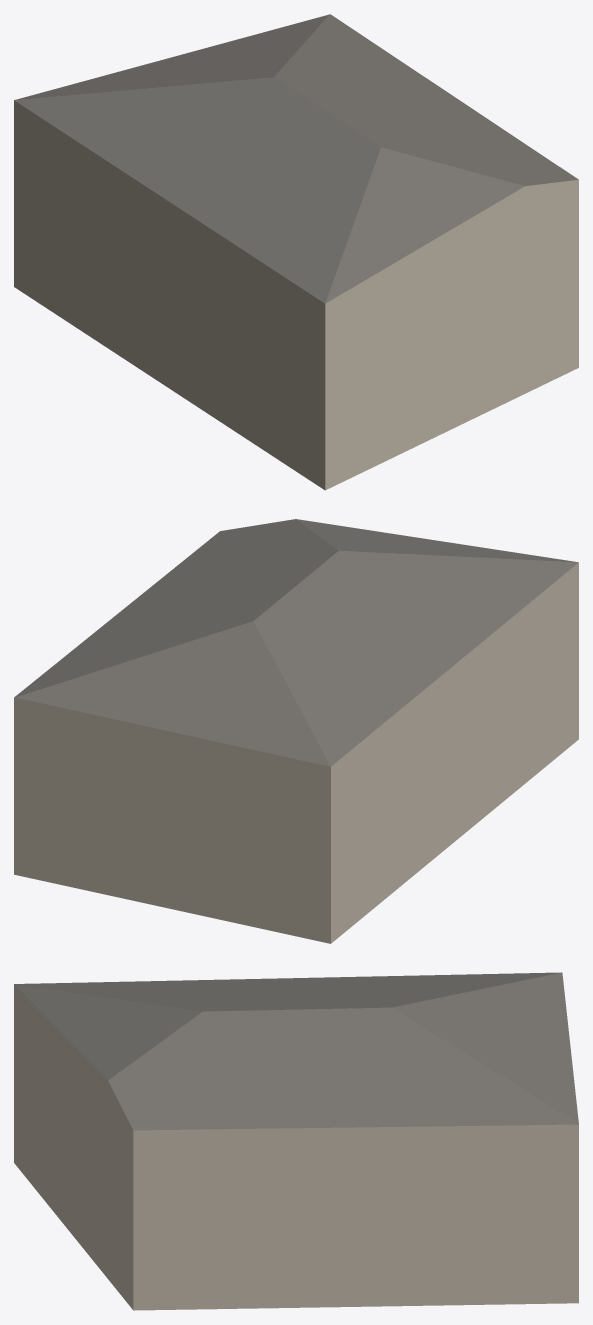
3 views of the same model, one above another, from view 1: azimuth 30°, elevation 25°; view 2: azimuth 150°, elevation 25°; view 3: azimuth 270°, elevation 25° (orthographic). The views are drawn at different scales.
Visible parts, largest first — view 1: HP-w428202604; view 2: HP-w428202604; view 3: HP-w428202604.
Boxes of the visible parts, x1,y1,x2,y2 form: HP-w428202604: (14,14,578,490); HP-w428202604: (14,519,578,943); HP-w428202604: (14,972,578,1310).
Bounding box in the file's own units: 22.93 × 15 × 34.37.
